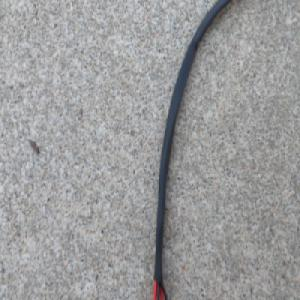Wire: (147, 0, 240, 300)
